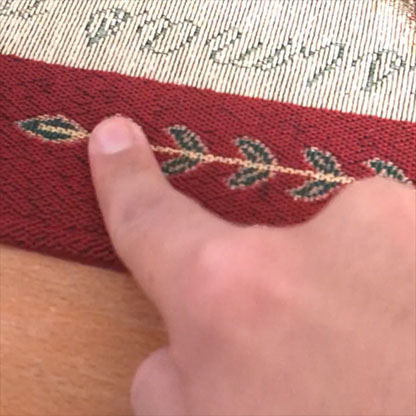fingertip: (68, 110, 156, 174)
